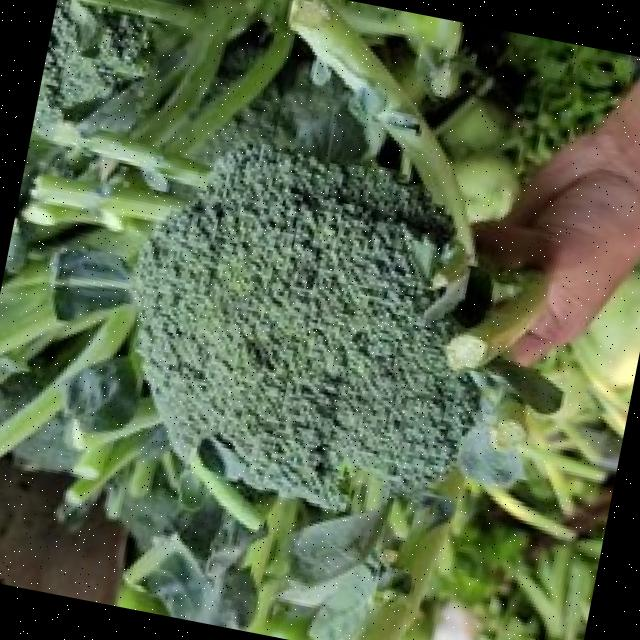Broccoli: (137, 143, 478, 510), (139, 143, 478, 506)
